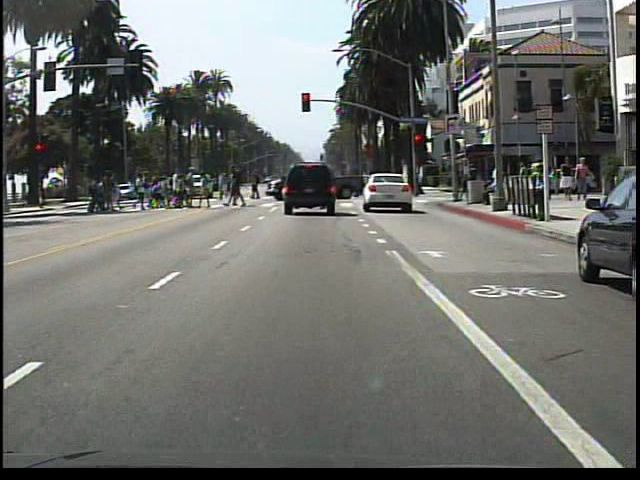person: (528, 159, 547, 223), (574, 154, 593, 203), (558, 155, 577, 202)
